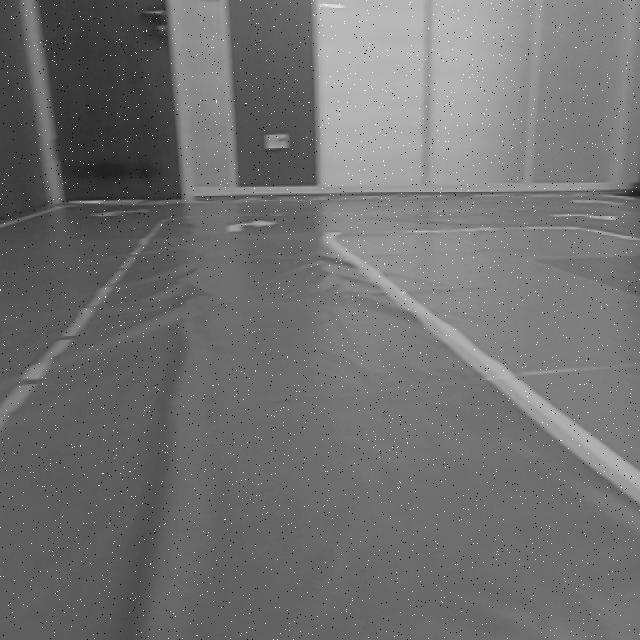left_lane: (0, 220, 164, 431)
right_lane: (326, 241, 640, 509)
